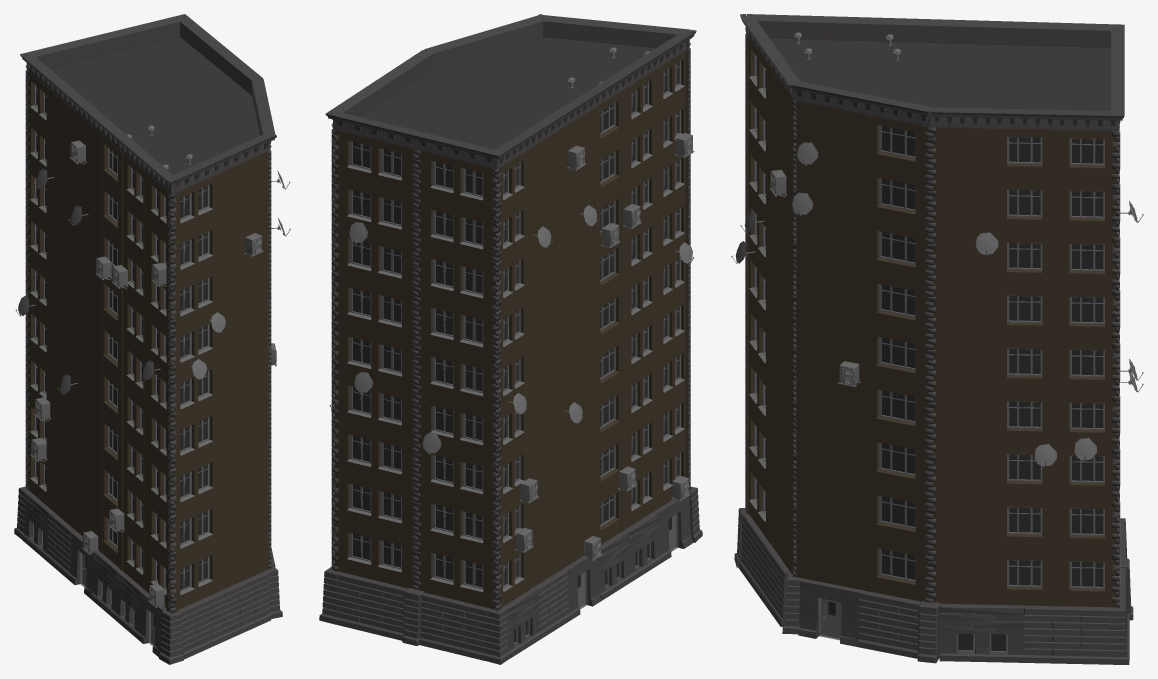
The picture shows the model from 3 angles, left to right: view 1: azimuth 30°, elevation 25°; view 2: azimuth 150°, elevation 25°; view 3: azimuth 270°, elevation 25°; orthographic projection. The views are drawn at different scales.
Visible parts, largest first — view 1: Plane.013, ground_floor_wall_02.150, ground_floor_wall_02.151, middle_floor_wall_01.328, middle_floor_wall_01.329, middle_floor_wall_01.325, middle_floor_wall_01.333, middle_floor_wall_01.327, middle_floor_wall_01.326, middle_floor_wall_02.642, middle_floor_wall_02.643, middle_floor_wall_02.638 (+87 smaller); view 2: Plane.013, middle_floor_wall_02.679, middle_floor_wall_02.673, middle_floor_wall_02.672, middle_floor_wall_02.676, middle_floor_wall_02.671, middle_floor_wall_02.688, middle_floor_wall_02.684, middle_floor_wall_02.681, middle_floor_wall_02.685, middle_floor_wall_02.686, middle_floor_wall_02.687 (+87 smaller); view 3: Plane.013, ground_floor_wall_02.153, ground_floor_wall_03.043, middle_floor_wall_01.317, middle_floor_wall_01.316, middle_floor_wall_01.318, middle_floor_wall_01.321, ground_floor_wall_02.149, middle_floor_wall_01.322, middle_floor_wall_03.227, middle_floor_wall_03.221, middle_floor_wall_03.220 (+75 smaller).
Boxes of the visible parts, <box> form: Plane.013: <box>50,37,259,174</box>; ground_floor_wall_02.150: <box>221,571,271,639</box>; ground_floor_wall_02.151: <box>177,591,227,659</box>; middle_floor_wall_01.328: <box>221,383,268,450</box>; middle_floor_wall_01.329: <box>221,337,268,404</box>; middle_floor_wall_01.325: <box>221,523,268,590</box>; middle_floor_wall_01.333: <box>221,151,268,218</box>; middle_floor_wall_01.327: <box>221,430,268,497</box>; middle_floor_wall_01.326: <box>221,476,268,543</box>; middle_floor_wall_02.642: <box>166,219,220,286</box>; middle_floor_wall_02.643: <box>166,172,220,239</box>; middle_floor_wall_02.638: <box>166,405,220,472</box>; Plane.013: <box>361,37,655,149</box>; middle_floor_wall_02.679: <box>333,129,415,197</box>; middle_floor_wall_02.673: <box>335,424,414,491</box>; middle_floor_wall_02.672: <box>335,473,414,540</box>; middle_floor_wall_02.676: <box>335,277,414,344</box>; middle_floor_wall_02.671: <box>335,522,414,588</box>; middle_floor_wall_02.688: <box>418,150,494,217</box>; middle_floor_wall_02.684: <box>418,347,494,413</box>; middle_floor_wall_02.681: <box>418,494,494,560</box>; middle_floor_wall_02.685: <box>418,298,494,364</box>; middle_floor_wall_02.686: <box>418,249,494,315</box>; middle_floor_wall_02.687: <box>418,200,494,266</box>; Plane.013: <box>770,38,1110,110</box>; ground_floor_wall_02.153: <box>1024,605,1108,664</box>; ground_floor_wall_03.043: <box>939,603,1024,662</box>; middle_floor_wall_01.317: <box>795,471,862,536</box>; middle_floor_wall_01.316: <box>795,524,862,589</box>; middle_floor_wall_01.318: <box>795,418,862,484</box>; middle_floor_wall_01.321: <box>795,259,862,325</box>; ground_floor_wall_02.149: <box>857,590,920,658</box>; middle_floor_wall_01.322: <box>795,210,862,272</box>; middle_floor_wall_03.227: <box>862,114,929,179</box>; middle_floor_wall_03.221: <box>862,431,927,496</box>; middle_floor_wall_03.220: <box>862,484,927,549</box>.
Size of the model in its own units: 1433 by 3130 by 2139.
